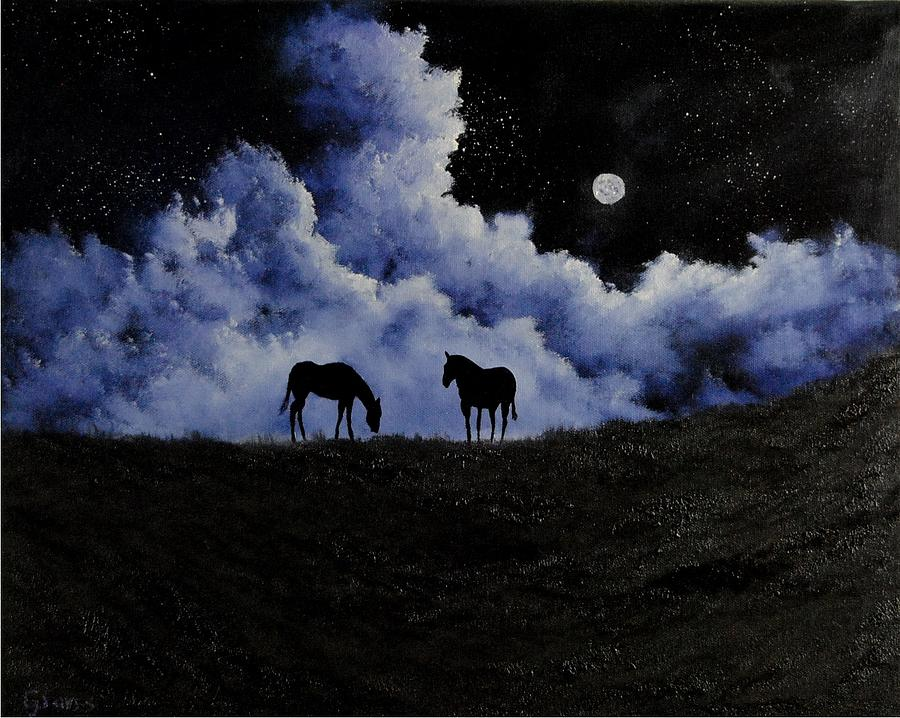Horse: (279, 354, 392, 449), (436, 348, 533, 453)
